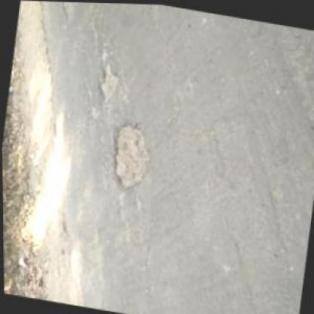Hueco: (105, 118, 156, 192), (95, 59, 122, 103)
